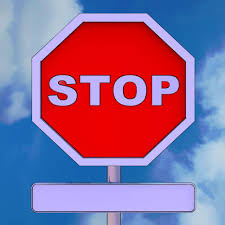stop sign: (29, 13, 194, 168)
